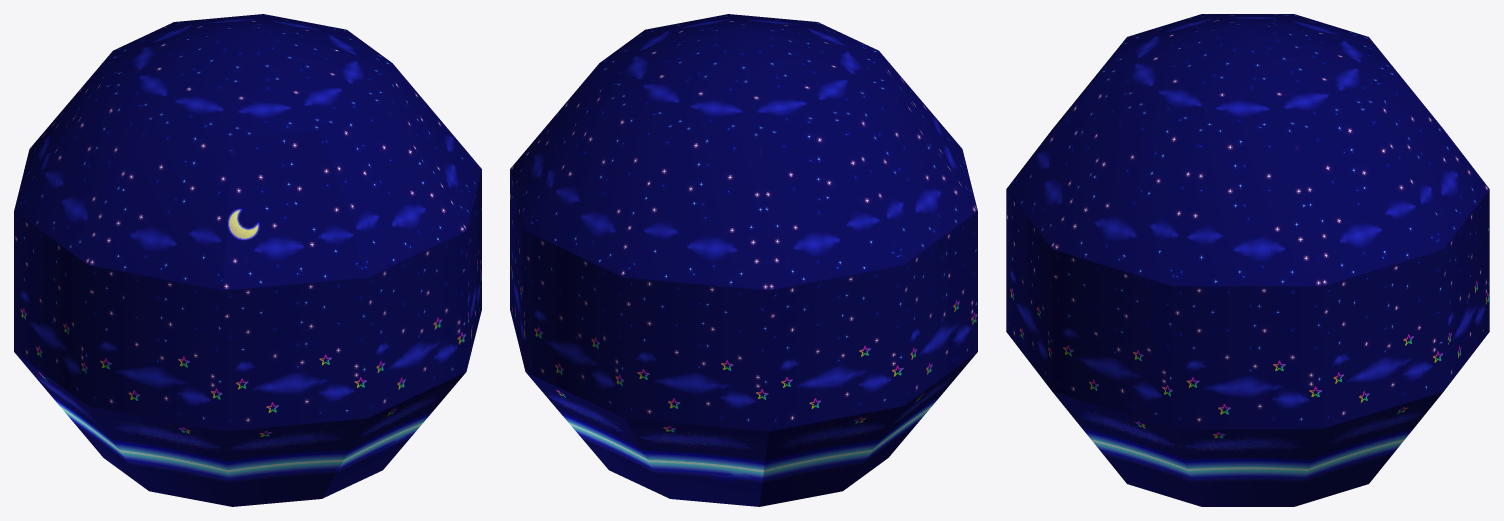
Rendered from escenario-arcoiris.obj.
3 views of the same model, side by side, from view 1: azimuth 30°, elevation 25°; view 2: azimuth 150°, elevation 25°; view 3: azimuth 270°, elevation 25° (orthographic).
Visible parts, largest first — view 1: rrgba.w.001; view 2: rrgba.w.001; view 3: rrgba.w.001.
Boxes of the visible parts, <box> form: rrgba.w.001: <box>14,14,481,506</box>; rrgba.w.001: <box>510,14,977,506</box>; rrgba.w.001: <box>1006,14,1489,506</box>.
Size of the model in its own units: 239 by 264 by 251.
Materials: 10 (8 with a texture image).
